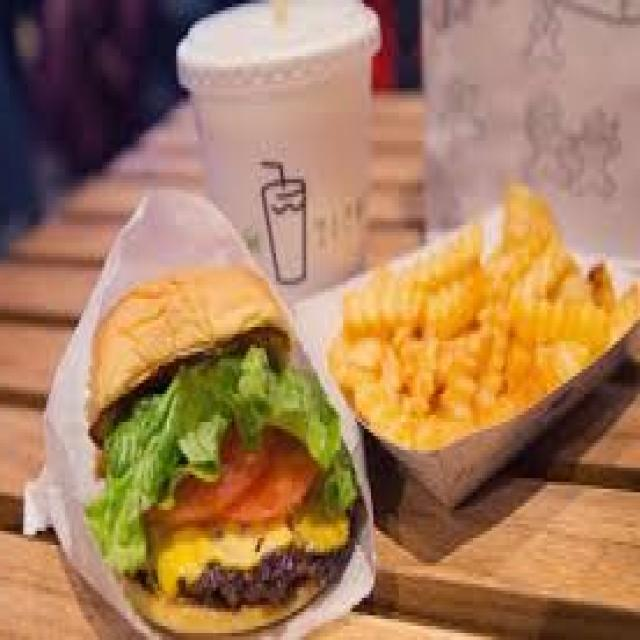Burger: (90, 260, 341, 633)
French Fries: (336, 176, 638, 460)
